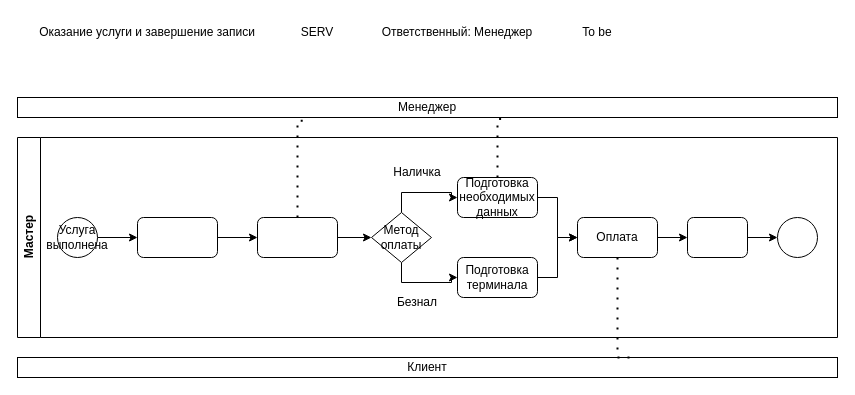
The diagram is 855 pixels wide and 395 high, and some of its shapes have lost their labels. The centre of each missing label's shape, as x and y in pixels:
"Операция выполнена" goes at (797,237).
"Отправка клиента к менеджеру" goes at (177,237).
"Передача данных в бухгалтерию" goes at (717,237).
"Принятие оплаты" goes at (297,237).
